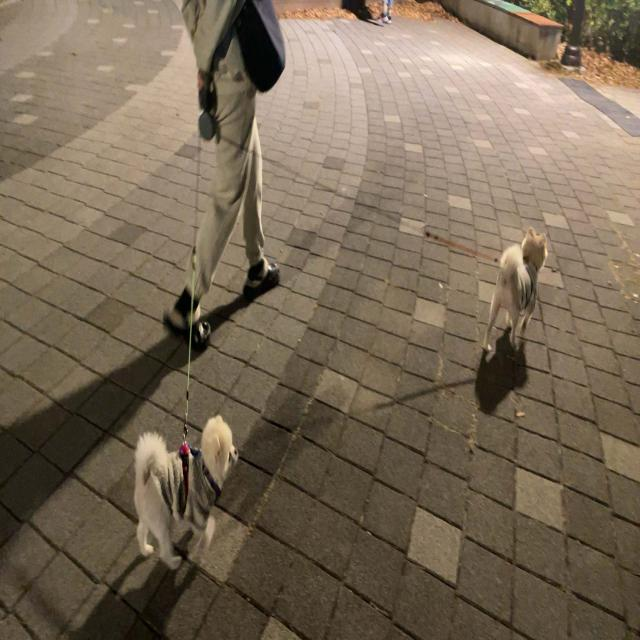Leashed_Dog: (247, 131, 548, 353), (132, 97, 239, 573)
